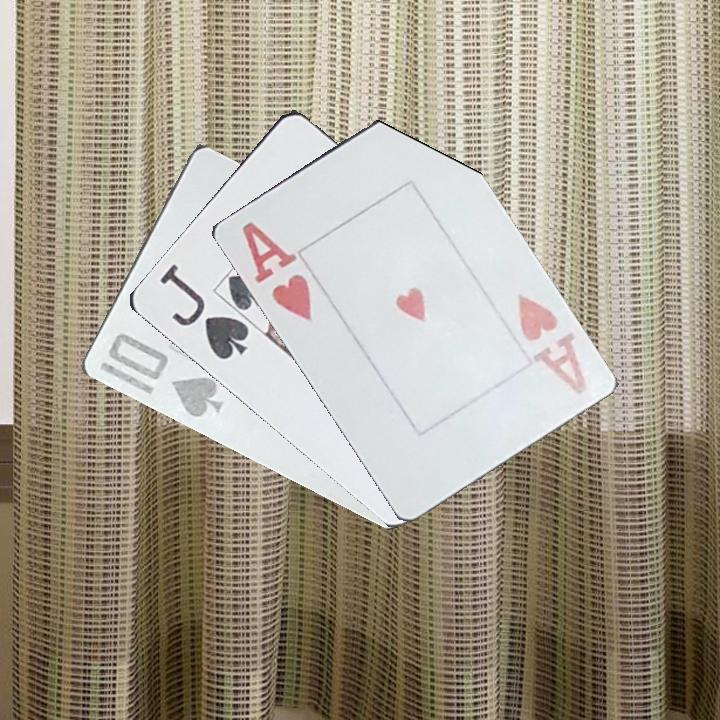Ah: (511, 290, 591, 398), (237, 218, 314, 324)
Js: (155, 261, 252, 363)
Ts: (103, 330, 225, 421)
